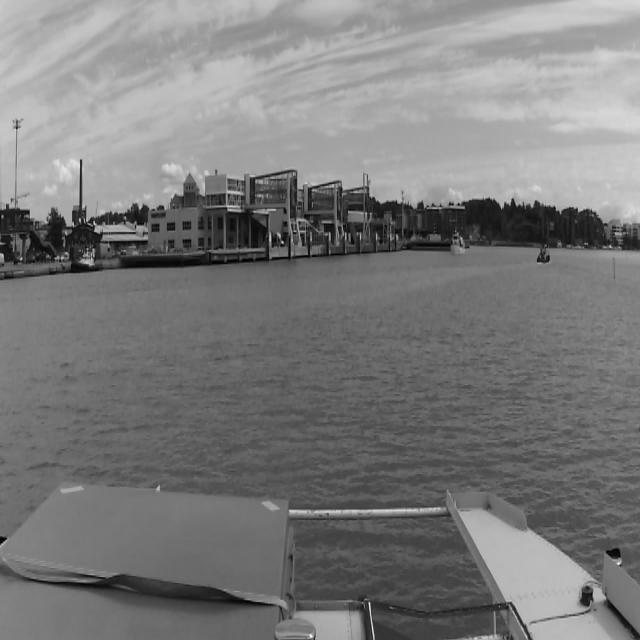buoy: (611, 244, 619, 276)
ship: (71, 249, 105, 273), (451, 233, 465, 253), (536, 245, 550, 263)
